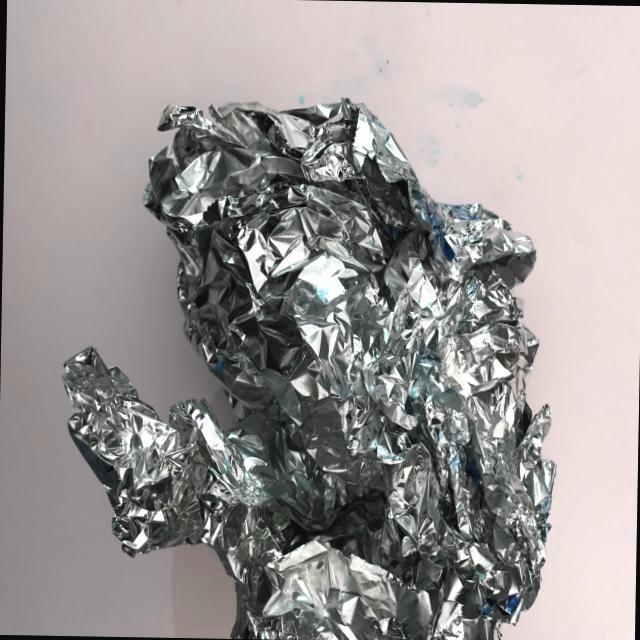metal: (51, 42, 573, 640)
